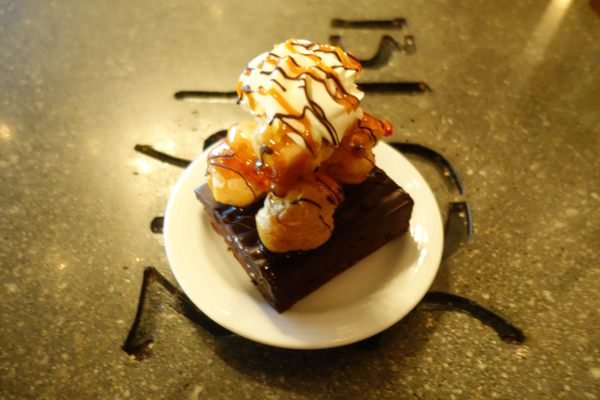curry: (1, 0, 592, 392)
sushi: (195, 44, 416, 312)
